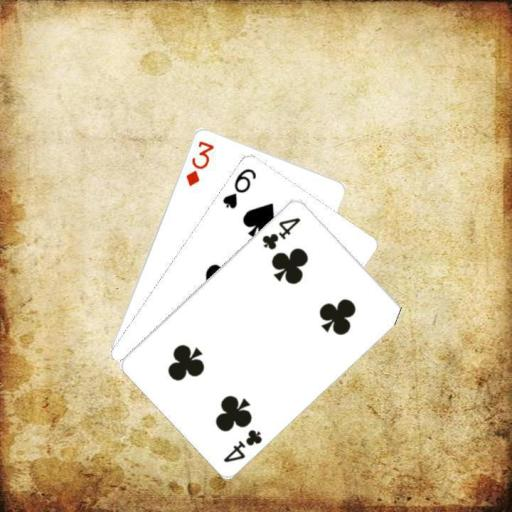card-corner: (219, 164, 258, 210), (182, 137, 216, 188), (220, 425, 264, 464), (258, 213, 302, 251)
